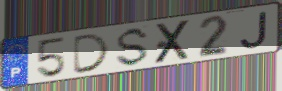2: (197, 14, 230, 61)
5: (35, 35, 69, 79)
D: (71, 32, 112, 76)
J: (238, 10, 269, 50)
S: (113, 26, 152, 69)
X: (153, 17, 194, 66)
